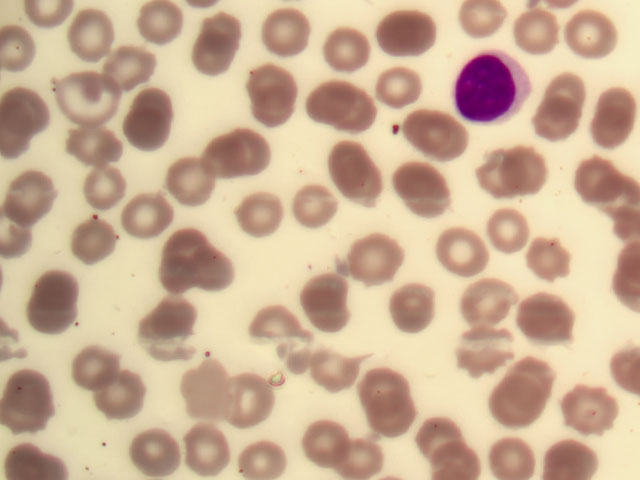RBC: (65, 8, 118, 59), (56, 68, 109, 119), (92, 46, 145, 97), (182, 32, 235, 83), (256, 5, 309, 56), (242, 52, 295, 103), (126, 95, 179, 146), (66, 122, 119, 173), (69, 163, 122, 214), (119, 185, 172, 236), (158, 164, 211, 215), (191, 138, 244, 189), (223, 123, 276, 174), (320, 143, 373, 194), (301, 79, 354, 130), (344, 91, 397, 142), (324, 31, 377, 82), (377, 16, 430, 67), (379, 61, 432, 112), (416, 108, 469, 159), (394, 167, 447, 218), (283, 178, 336, 229), (241, 189, 294, 240), (178, 226, 231, 277), (161, 252, 214, 303), (205, 255, 258, 306), (59, 217, 112, 268), (7, 171, 60, 222), (1, 97, 54, 148), (30, 268, 83, 319), (136, 306, 189, 357), (243, 307, 296, 358), (279, 342, 332, 393), (319, 351, 372, 402), (304, 273, 357, 324), (355, 240, 408, 291), (383, 291, 436, 342), (449, 233, 502, 284), (477, 205, 530, 256), (509, 230, 562, 281), (474, 150, 527, 201), (495, 142, 548, 193), (532, 91, 585, 142), (549, 64, 602, 115), (560, 17, 613, 68), (507, 10, 560, 61), (451, 4, 504, 55), (587, 91, 640, 142), (587, 159, 640, 210), (529, 299, 582, 350), (465, 320, 518, 371), (467, 286, 520, 337), (477, 378, 530, 429), (509, 351, 562, 402), (573, 395, 626, 446), (484, 429, 537, 480), (402, 429, 455, 480), (365, 387, 418, 438), (360, 352, 413, 403), (298, 417, 351, 468), (236, 429, 289, 480), (185, 429, 238, 480), (130, 429, 183, 480), (179, 370, 232, 421), (224, 377, 277, 428), (89, 363, 142, 414), (75, 352, 128, 403), (1, 377, 54, 428), (2, 429, 55, 480), (1, 23, 53, 74), (138, 1, 191, 51)
WBC: (450, 45, 535, 125)
